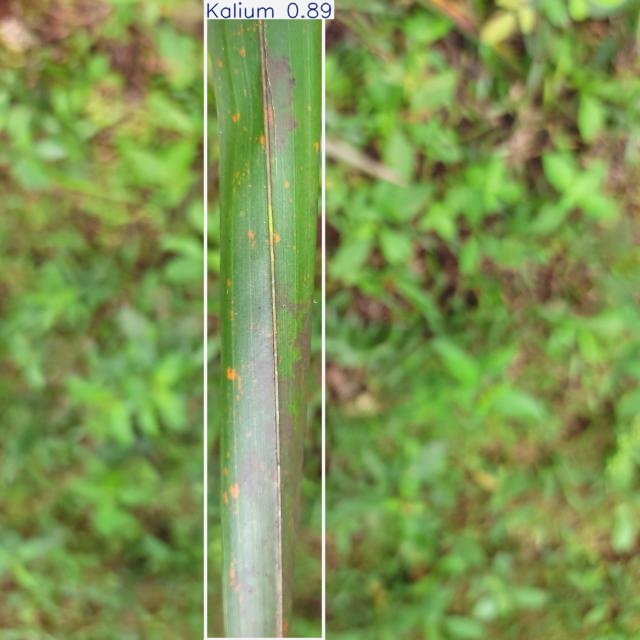Kalium: (206, 0, 324, 640)
